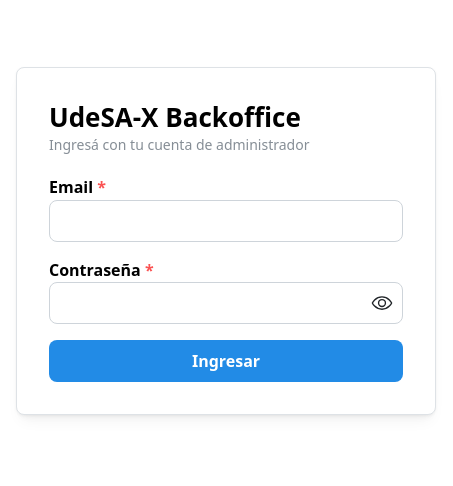
LoginPage › shows the backend message on wrong credentials and keeps the session empty
Expected: the button "Ingresar" is shown, left=49, top=340, right=403, bottom=382
Type "admin@udesa.edu.ar" into the field labelled "Email *" at (226,221), box left=49, top=200, right=403, bottom=242
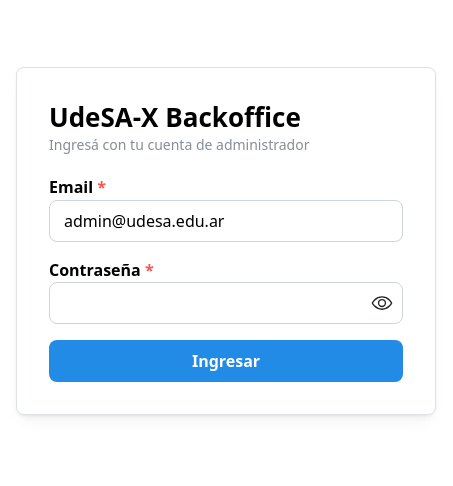
Type "Incorrecta1" into the password field labelled "Contraseña *" at (226,304), box left=50, top=284, right=402, bottom=324
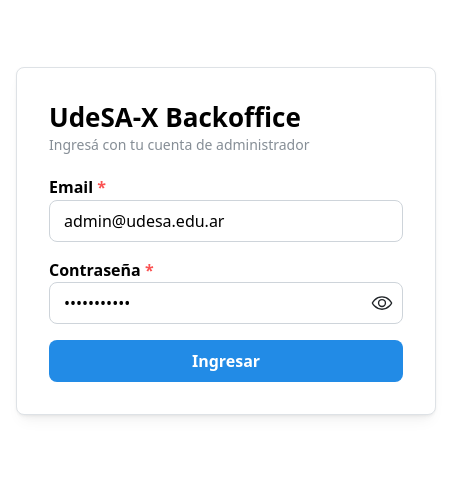
Click the button "Ingresar" at (226,362), box left=49, top=340, right=403, bottom=382
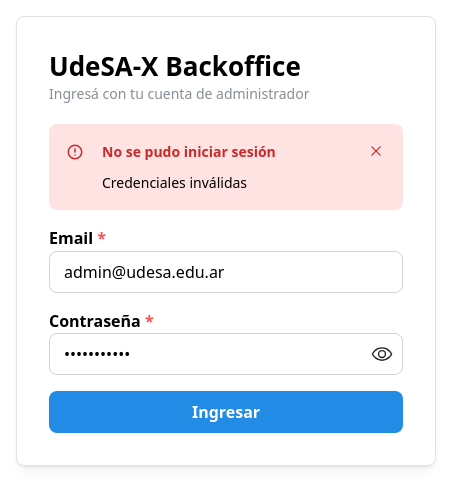
Expected: the message shows "Credenciales inválidas", left=102, top=173, right=247, bottom=192
